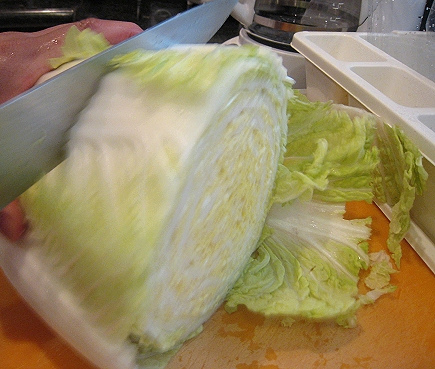cabbage: (21, 39, 290, 357)
